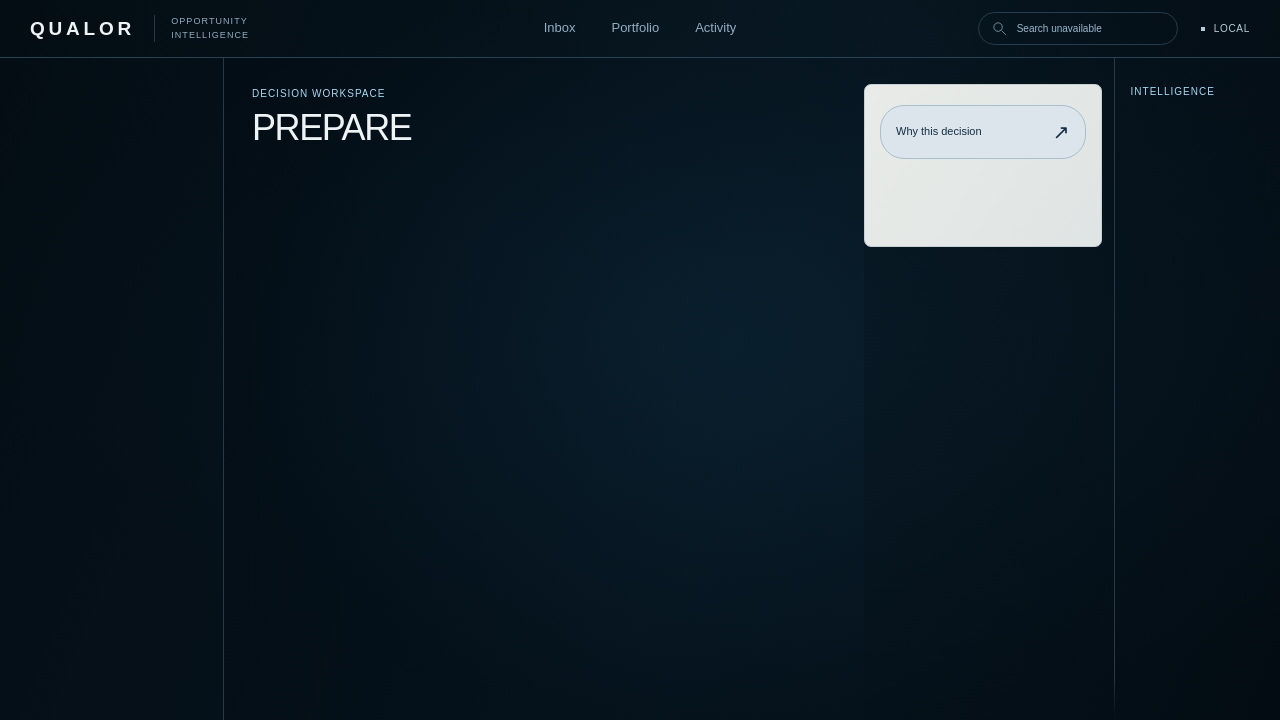
Test: groups the open proof into a context strip and one document region
Click the button "Why this decision ↗".
click(983, 132)  # box [880, 105, 1086, 159]
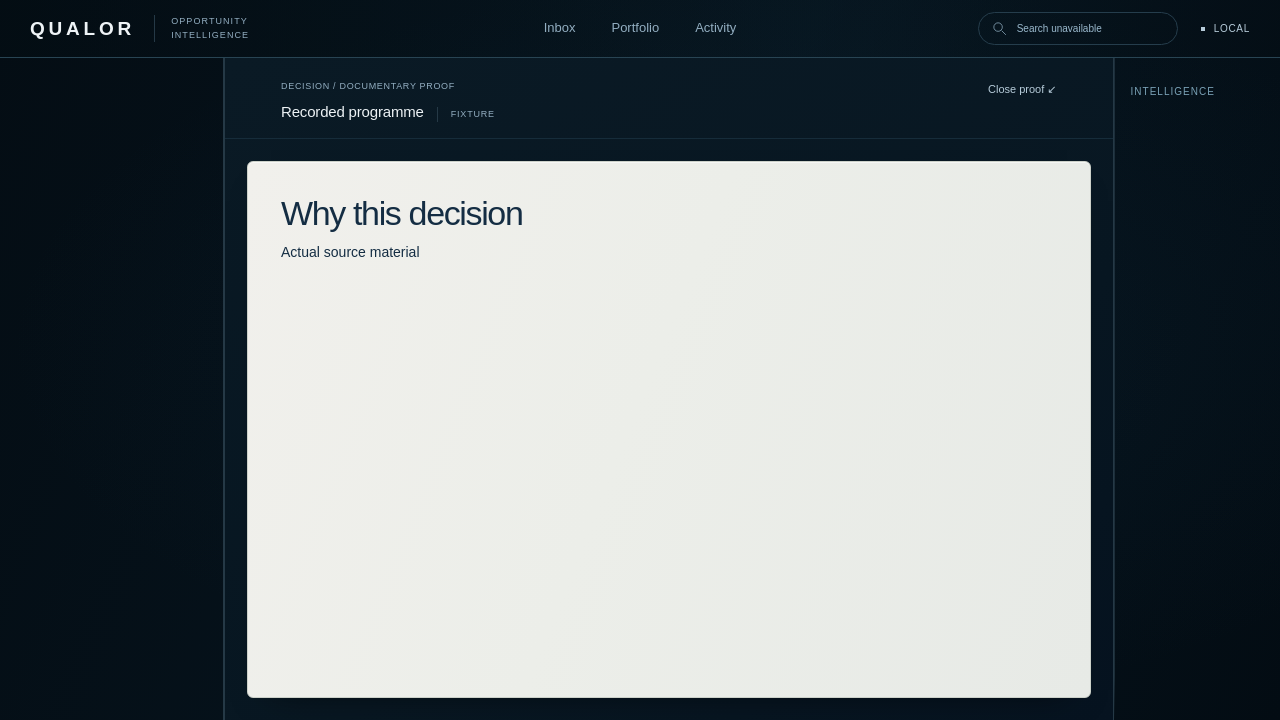
Expected: the element with class "evidence-plane-heading" is shown, [225, 58, 1113, 139]
Expected: the element with class "evidence-document" is shown, [247, 161, 1091, 698]
Expected: the number of buttons "Close proof ↙" is 1, [988, 73, 1056, 107]
